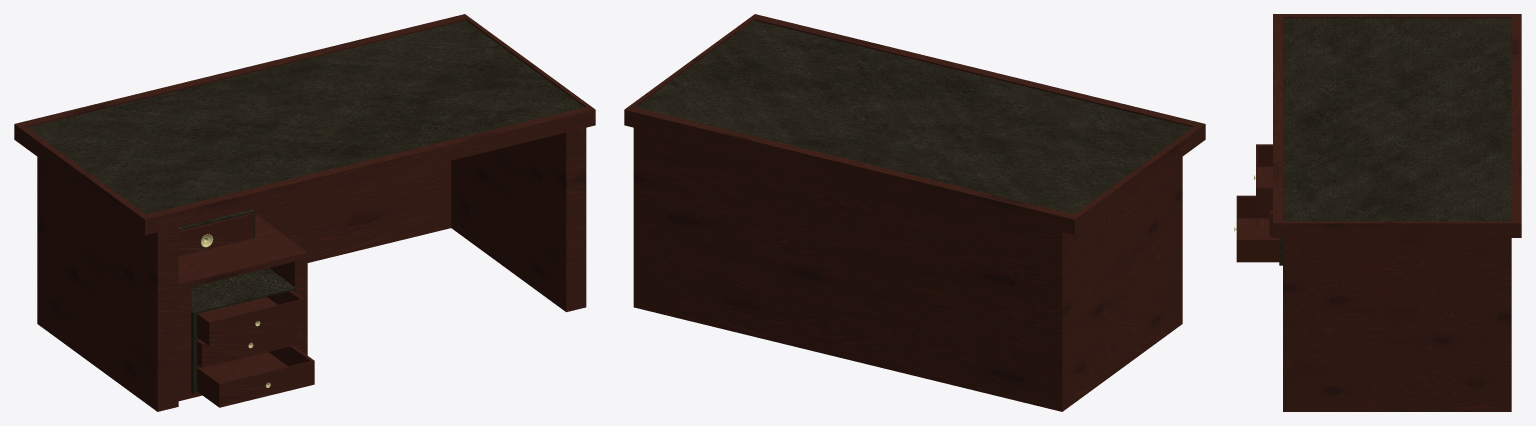
3 renders of one model, left to right at view 1: azimuth 30°, elevation 25°; view 2: azimuth 150°, elevation 25°; view 3: azimuth 270°, elevation 25°, orthographic. The views are drawn at different scales.
Parts seen in each view (by area): view 1: Cube, In drawer.003, In drawer.001, drawer.001, In drawer.002, In drawer; view 2: Cube; view 3: Cube, In drawer.003, In drawer.001.
Boxes of the visible parts, box(x1,y1,x2,y2) form: Cube: box(14, 14, 595, 411); In drawer.003: box(197, 345, 314, 407); In drawer.001: box(197, 290, 304, 346); drawer.001: box(191, 268, 295, 339); In drawer.002: box(197, 325, 297, 367); In drawer: box(178, 213, 252, 255); Cube: box(624, 14, 1205, 411); Cube: box(1273, 14, 1521, 411); In drawer.003: box(1236, 195, 1279, 262); In drawer.001: box(1256, 144, 1272, 210).
Bounding box in the file's own units: 644 × 274 × 374.
3 materials, 2 textured.
